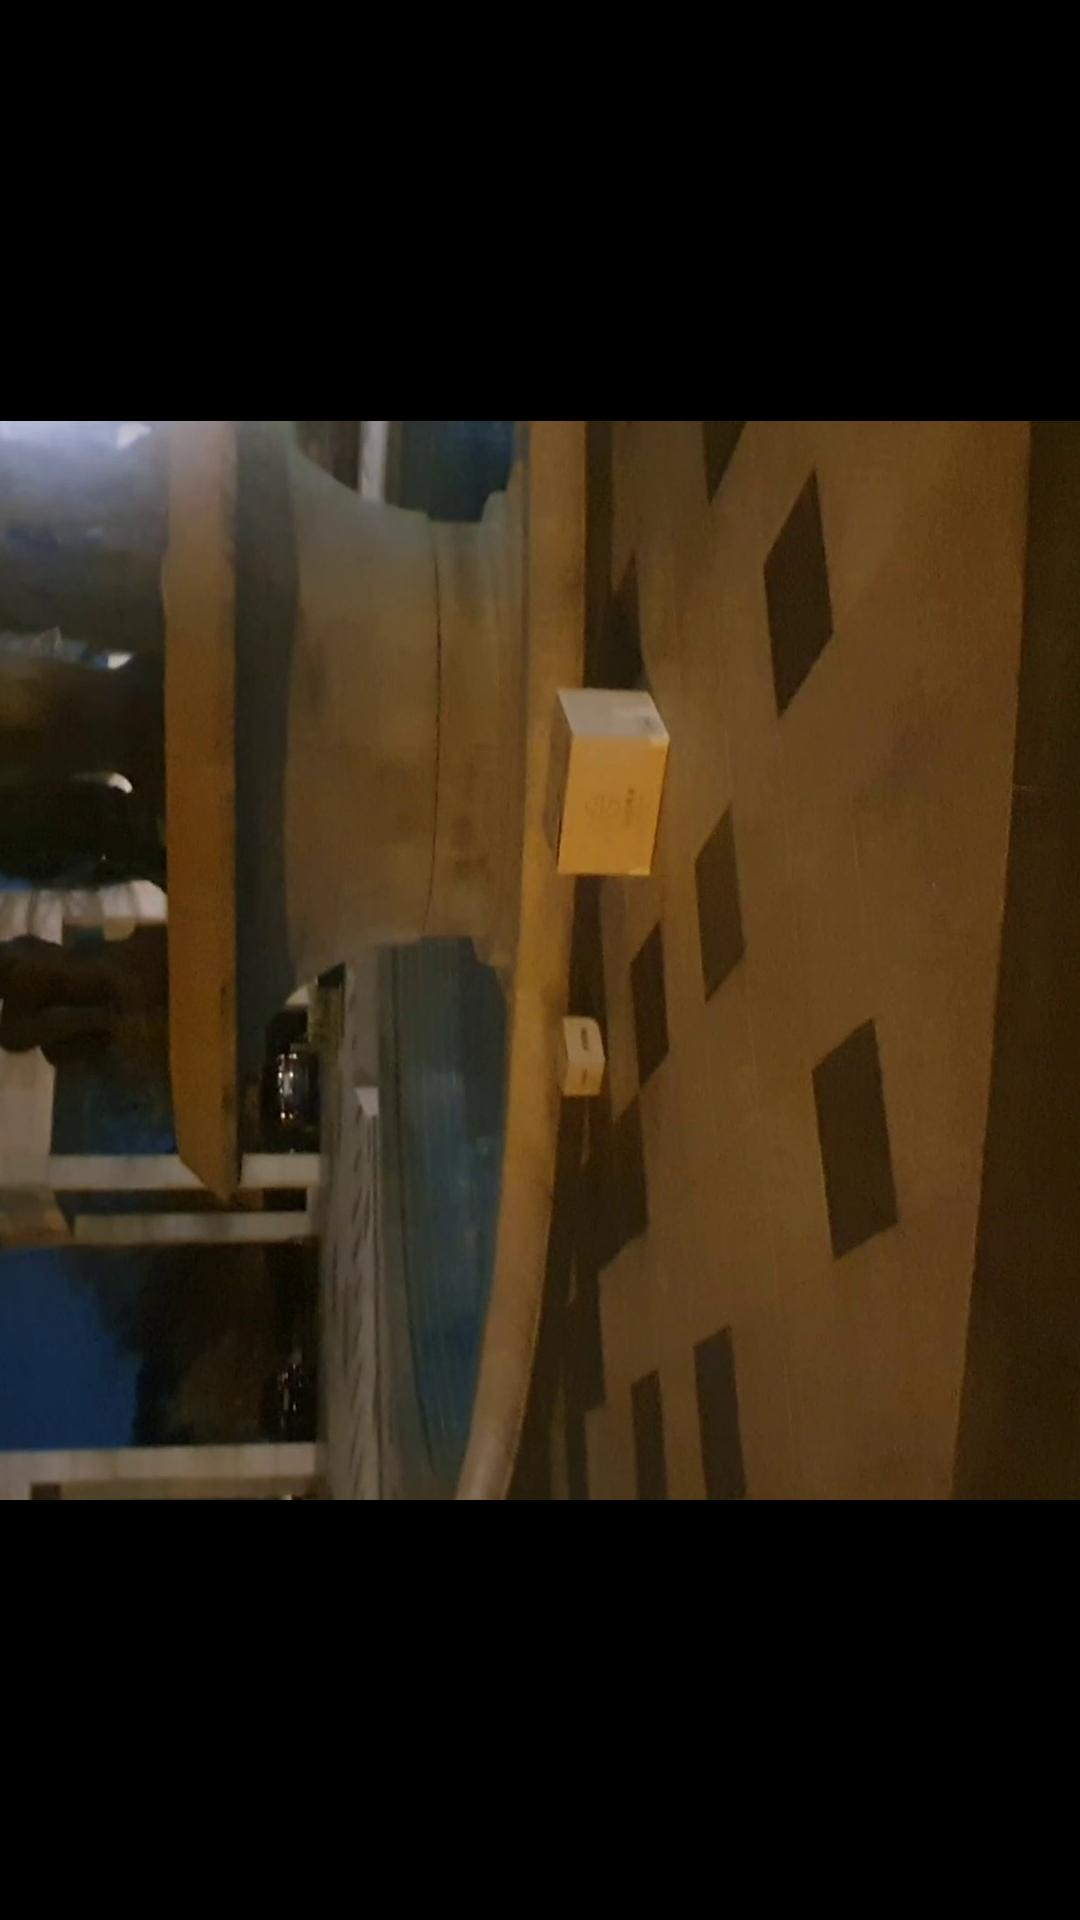Box: (533, 678, 688, 887), (541, 993, 611, 1106)
